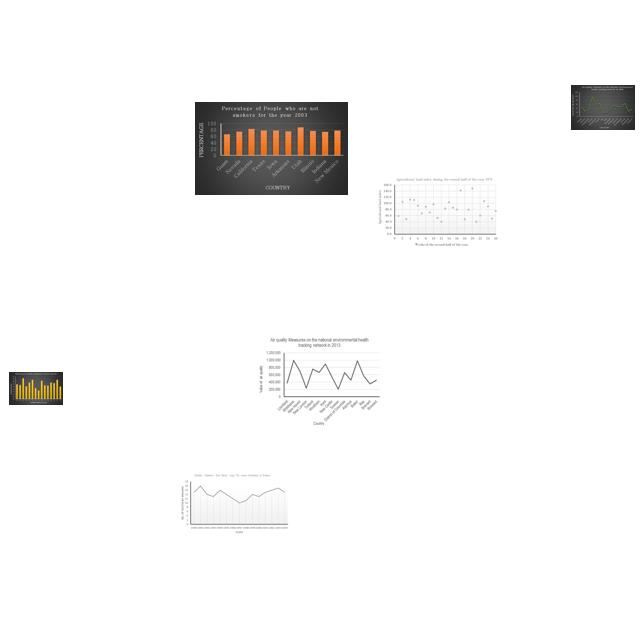Graph: (195, 102, 348, 195), (255, 336, 383, 428), (377, 175, 499, 249), (179, 472, 289, 537), (571, 85, 635, 130), (9, 372, 63, 405)
